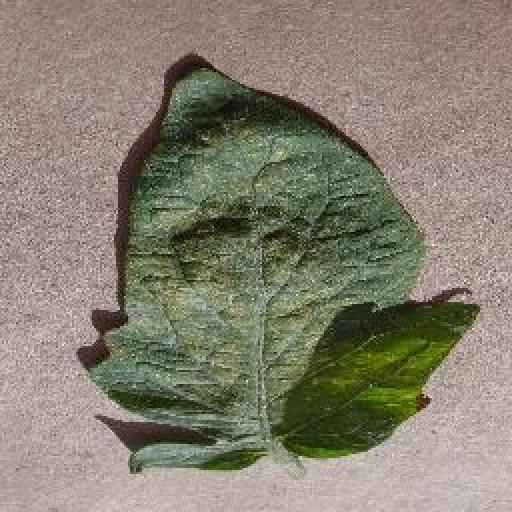disease_tomato: (95, 68, 481, 470)
